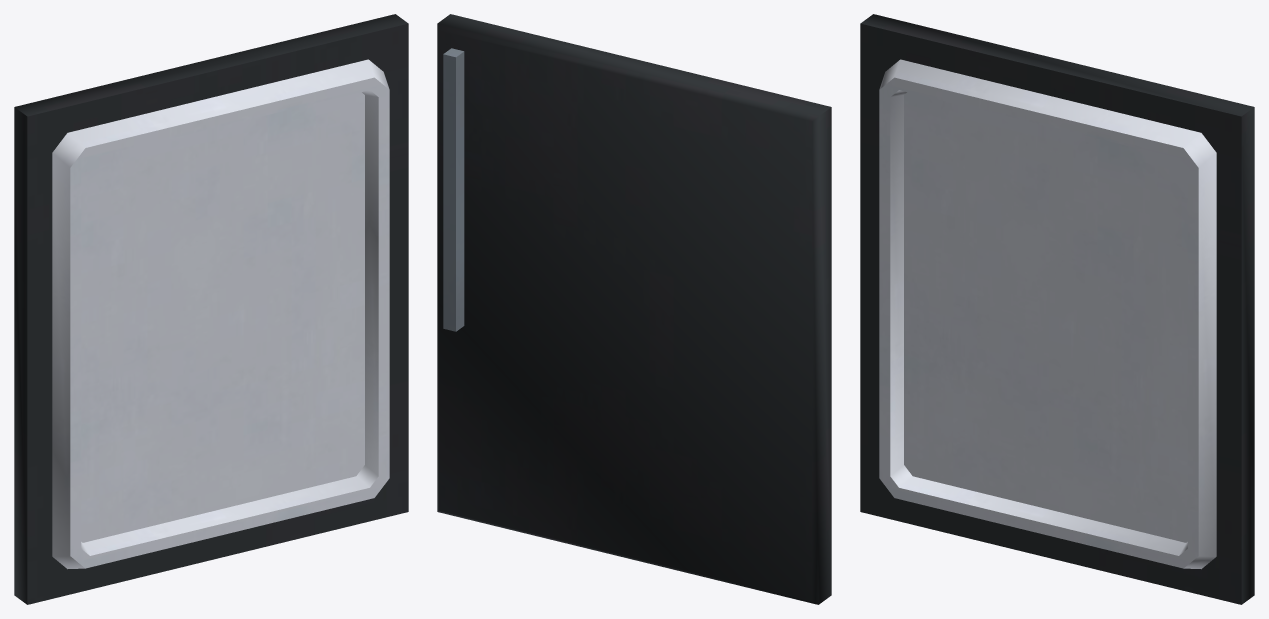
Rendered from Refrigerator_door_07.glb.
3 renders of one model, left to right at view 1: azimuth 30°, elevation 25°; view 2: azimuth 150°, elevation 25°; view 3: azimuth 330°, elevation 25°, orthographic.
Visible parts, largest first — view 1: Refrigerator_door_07; view 2: Refrigerator_door_07; view 3: Refrigerator_door_07.
Boxes of the visible parts, x1,y1,x2,y2 form: Refrigerator_door_07: (14,14,408,604); Refrigerator_door_07: (437,14,831,604); Refrigerator_door_07: (860,14,1254,604).
Size of the model in its own units: 0.7111 by 0.8706 by 0.1153.
3 materials, 3 textured.
